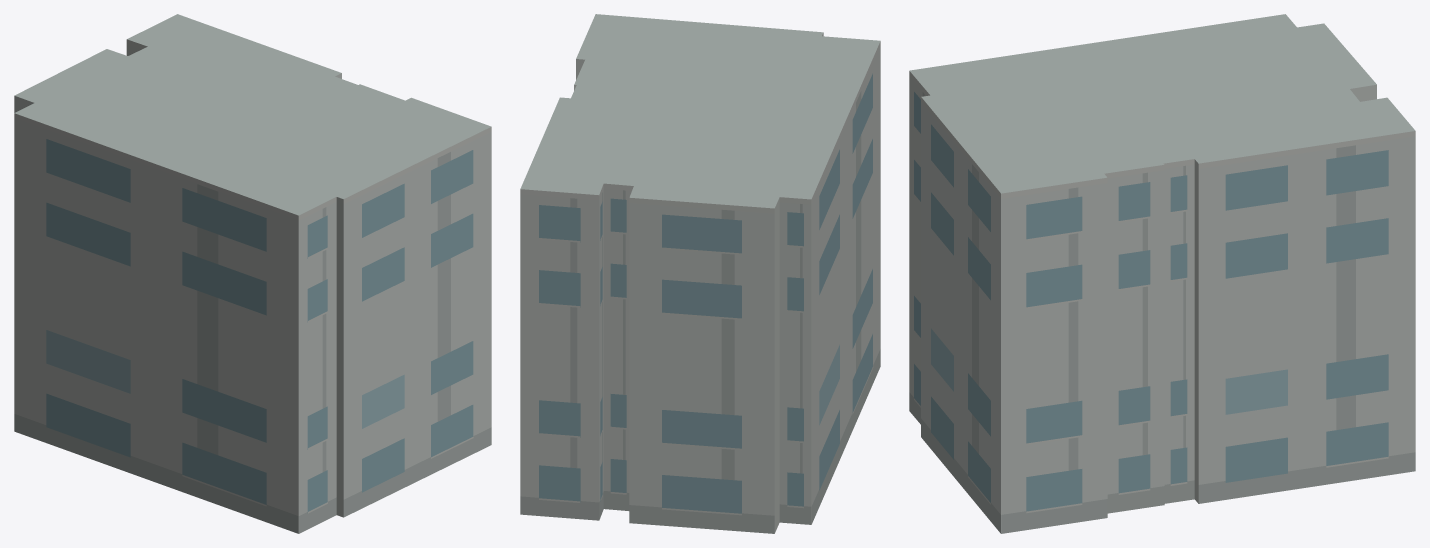
Rendered from survey-upis-32945524.glb.
The picture shows the model from 3 angles, left to right: view 1: azimuth 30°, elevation 25°; view 2: azimuth 150°, elevation 25°; view 3: azimuth 270°, elevation 25°; orthographic projection. The views are drawn at different scales.
Parts seen in each view (by area): view 1: survey-upis-32945524.tmp; view 2: survey-upis-32945524.tmp; view 3: survey-upis-32945524.tmp.
Boxes of the visible parts, box(x1,y1,x2,y2) form: survey-upis-32945524.tmp: box(14, 14, 491, 533); survey-upis-32945524.tmp: box(520, 14, 880, 533); survey-upis-32945524.tmp: box(909, 14, 1415, 533).
Bounding box in the file's own units: 17.32 × 15.3 × 20.64.
